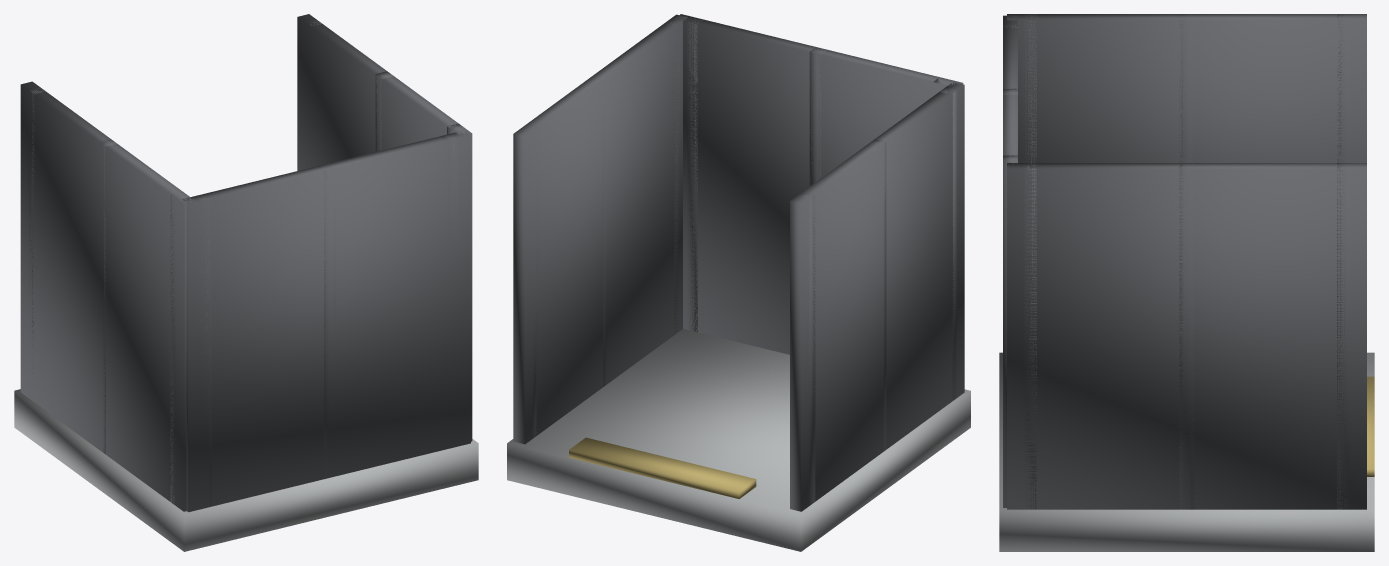
File: floor_w100_d100_three.glb
The picture shows the model from 3 angles, left to right: view 1: azimuth 30°, elevation 25°; view 2: azimuth 150°, elevation 25°; view 3: azimuth 270°, elevation 25°; orthographic projection. The views are drawn at different scales.
Parts seen in each view (by area): view 1: world; view 2: world; view 3: world.
Part boxes in pixels (x1,y1,x2,y2): world: (14,14,478,551); world: (507,14,970,551); world: (999,14,1374,551).
Size of the model in its own units: 1 by 1.12 by 1.
